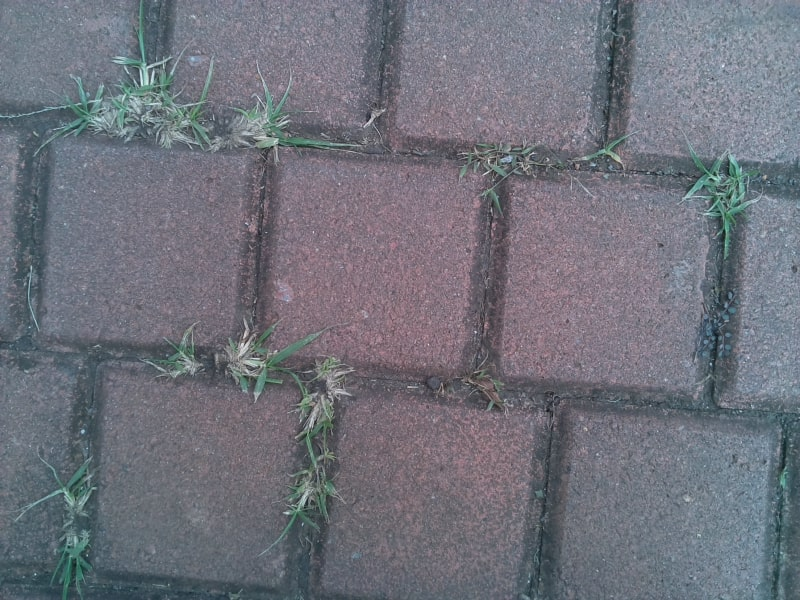Weed: (110, 22, 184, 144), (473, 139, 604, 205), (229, 76, 326, 157), (689, 144, 760, 253), (52, 70, 134, 144), (215, 328, 289, 396), (455, 357, 514, 421), (161, 96, 219, 154), (51, 527, 96, 589), (158, 328, 205, 387), (51, 466, 97, 518)
